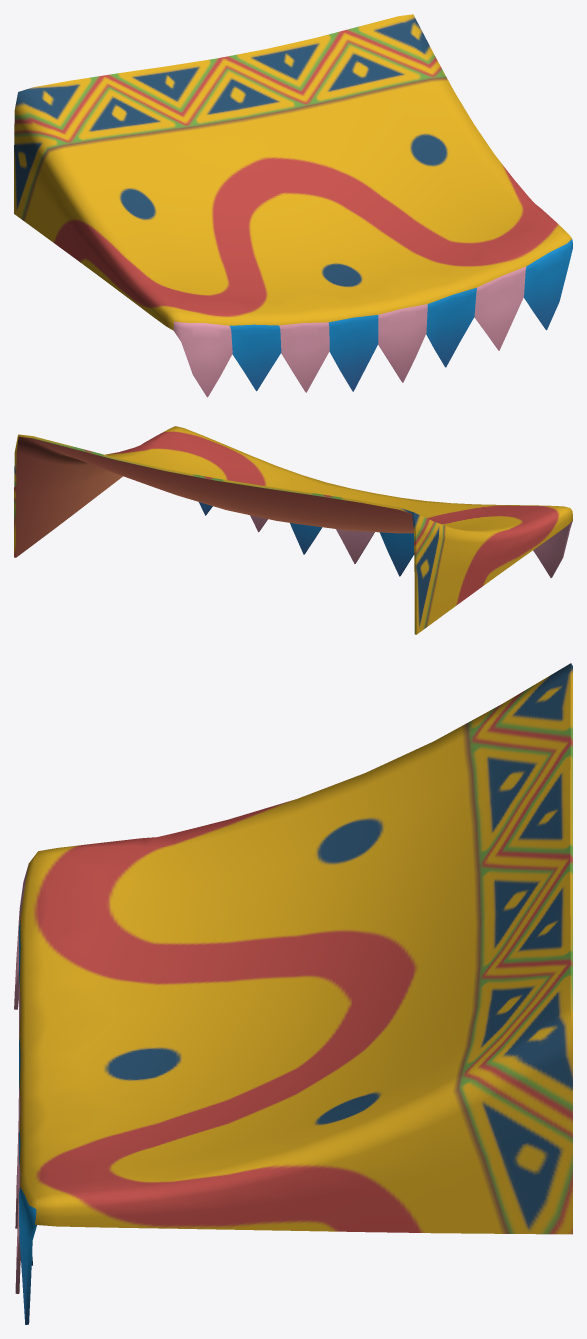
File: M_Store_Triangle_01.fbx
3 views of the same model, one above another, from view 1: azimuth 30°, elevation 25°; view 2: azimuth 150°, elevation 25°; view 3: azimuth 270°, elevation 25° (orthographic). The views are drawn at different scales.
Visible parts, largest first — view 1: Store_Triangle_01; view 2: Store_Triangle_01; view 3: Store_Triangle_01.
Part boxes in pixels (bbox=[...]): Store_Triangle_01: bbox=[14, 14, 572, 397]; Store_Triangle_01: bbox=[14, 426, 572, 634]; Store_Triangle_01: bbox=[14, 663, 572, 1324].
Bounding box in the file's own units: 6.06 × 4.3 × 3.26.
Materials: 1 (1 with a texture image).
